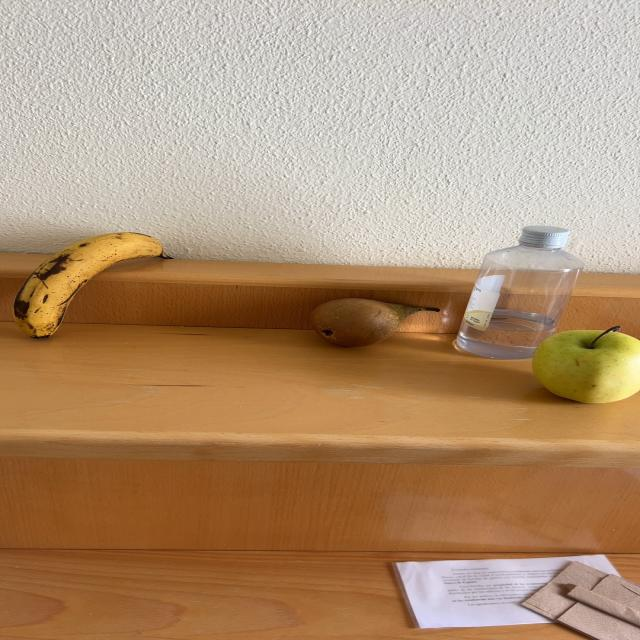apple: (533, 330, 639, 403)
bananas: (14, 233, 168, 337)
pear: (311, 298, 439, 346)
